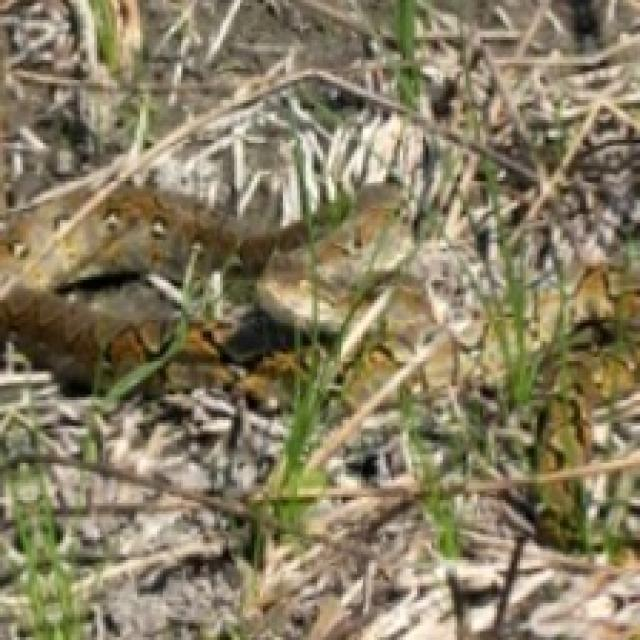reticulated python: (0, 163, 409, 397), (539, 265, 640, 470), (389, 254, 471, 346), (539, 475, 625, 549), (165, 326, 235, 391), (240, 351, 299, 413), (479, 319, 510, 392), (422, 342, 455, 389), (536, 286, 561, 344)
